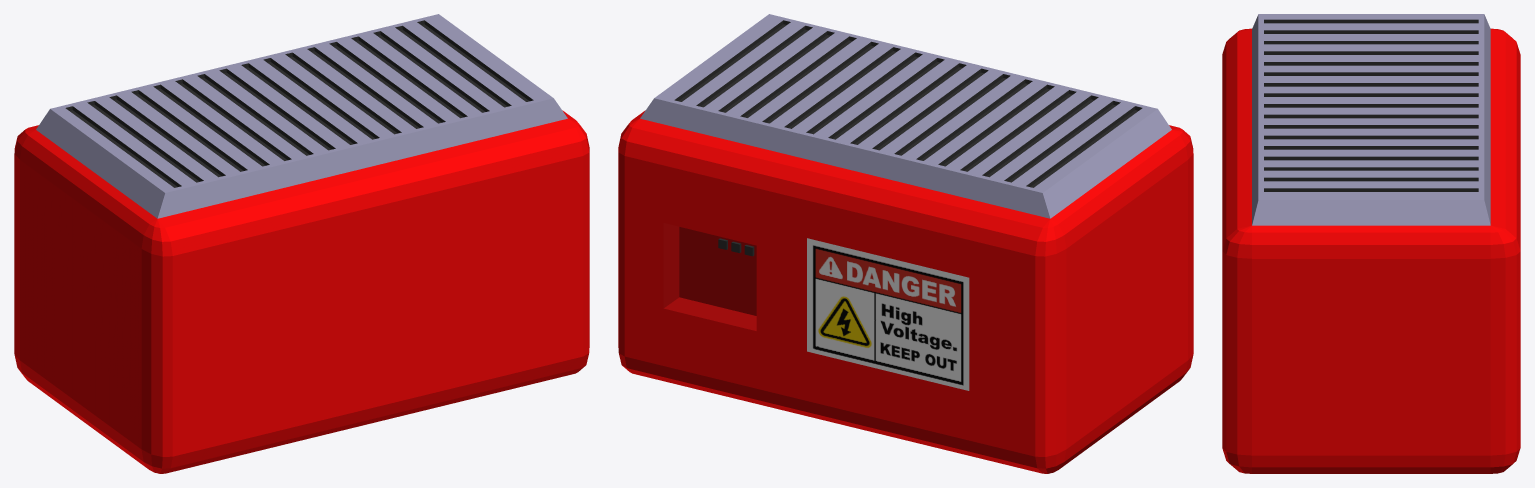
The model's file is generator.FBX.
3 renders of one model, left to right at view 1: azimuth 30°, elevation 25°; view 2: azimuth 150°, elevation 25°; view 3: azimuth 270°, elevation 25°, orthographic.
Visible parts, largest first — view 1: ChamferBox001; view 2: ChamferBox001, Plane001; view 3: ChamferBox001.
Boxes of the visible parts, x1,y1,x2,y2 form: ChamferBox001: [14, 14, 589, 473]; ChamferBox001: [618, 14, 1193, 473]; Plane001: [807, 238, 969, 390]; ChamferBox001: [1222, 14, 1520, 473].
Bounding box in the file's own units: 65.32 × 38.59 × 38.9.
